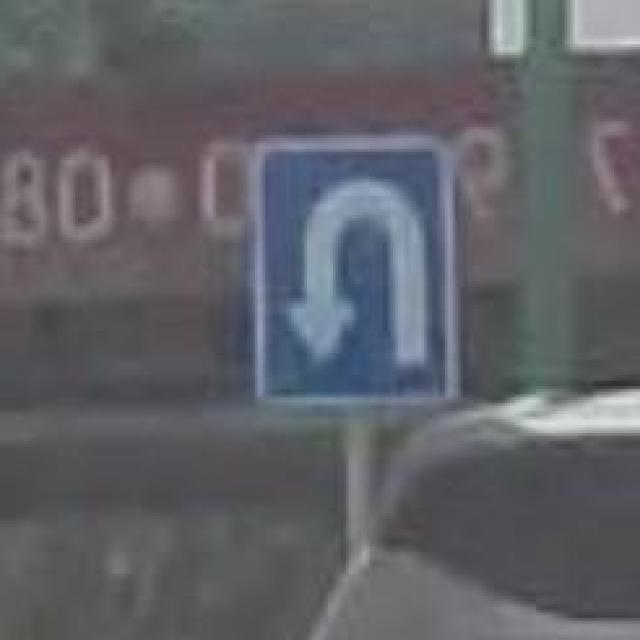U-turn: (251, 136, 457, 404)
